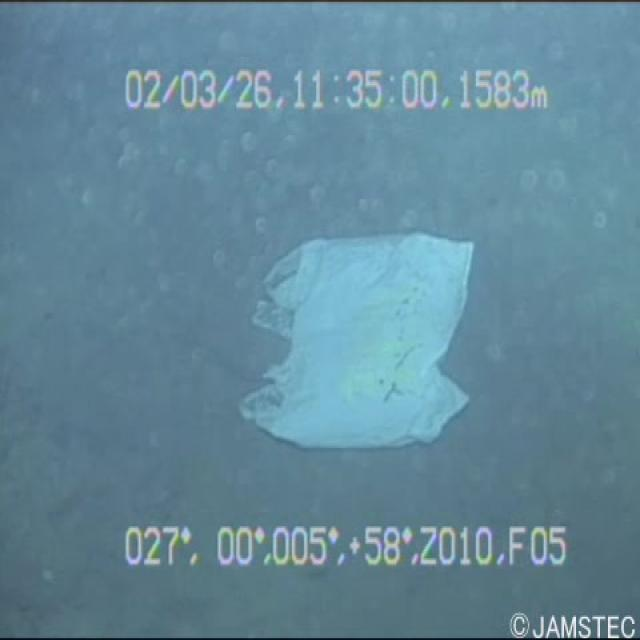plastic: (225, 190, 471, 475)
